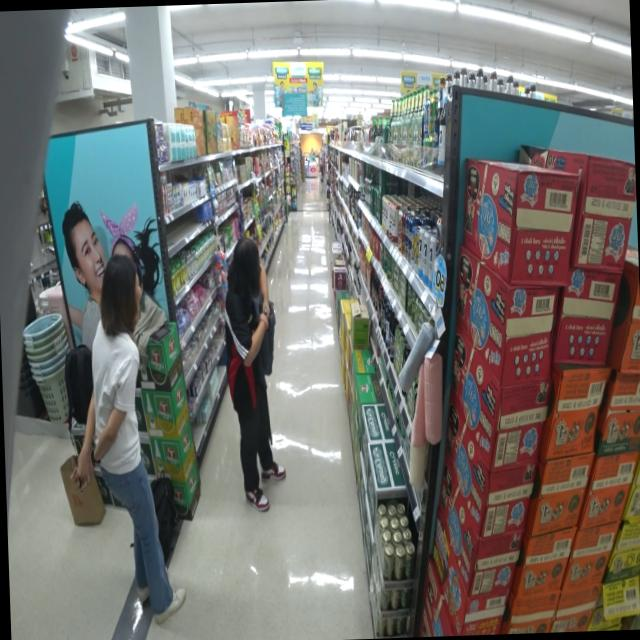shoplifting: (221, 236, 284, 517)
